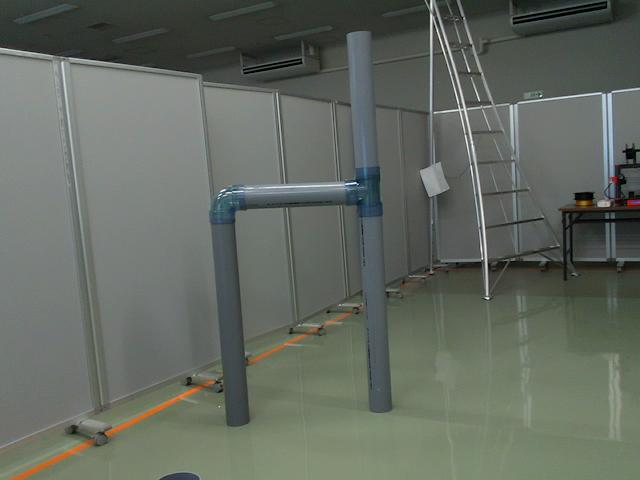bent: (210, 183, 248, 226)
junction: (343, 164, 385, 219)
